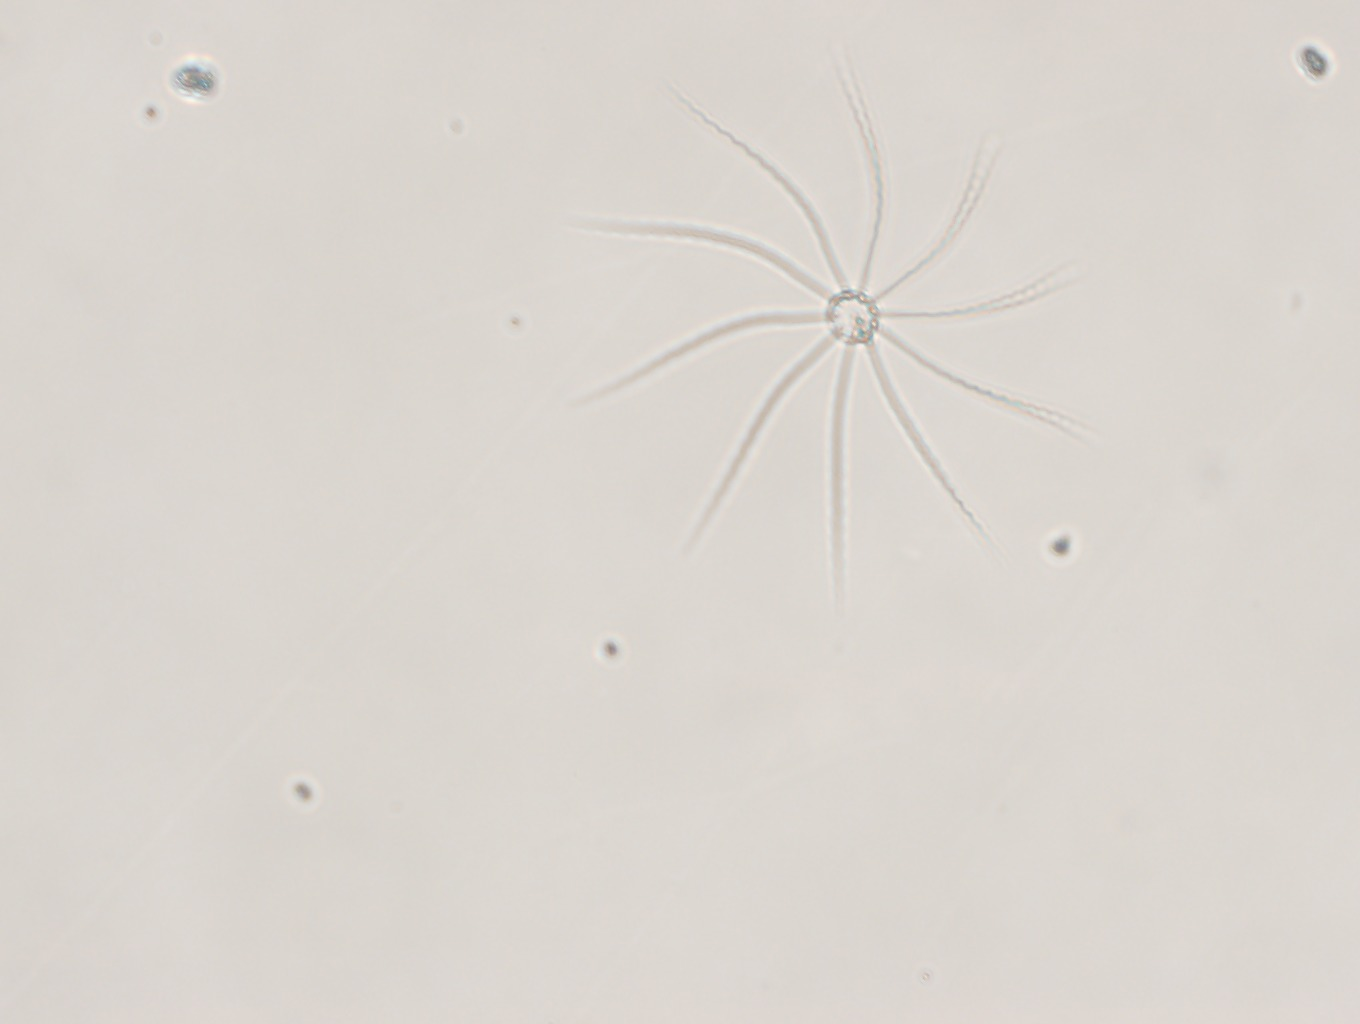bacteriastrum: (560, 70, 1092, 588)
